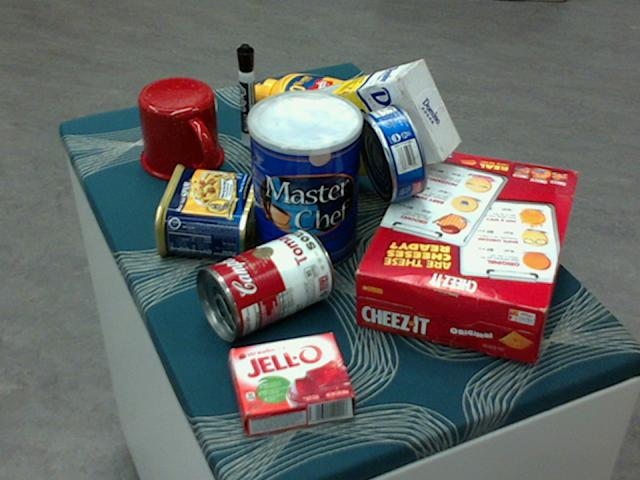cracker_box: (353, 146, 577, 362)
gelatin_box: (228, 331, 355, 434)
large_marker: (236, 43, 258, 147)
master_chef_can: (246, 91, 361, 275)
mug: (138, 77, 225, 181)
mustard_bottle: (246, 72, 414, 156)
potted_meat_can: (153, 164, 259, 257)
sugar_box: (275, 60, 460, 182)
tomato_soup_can: (194, 229, 332, 339)
tuna_fish_can: (358, 102, 428, 200)
